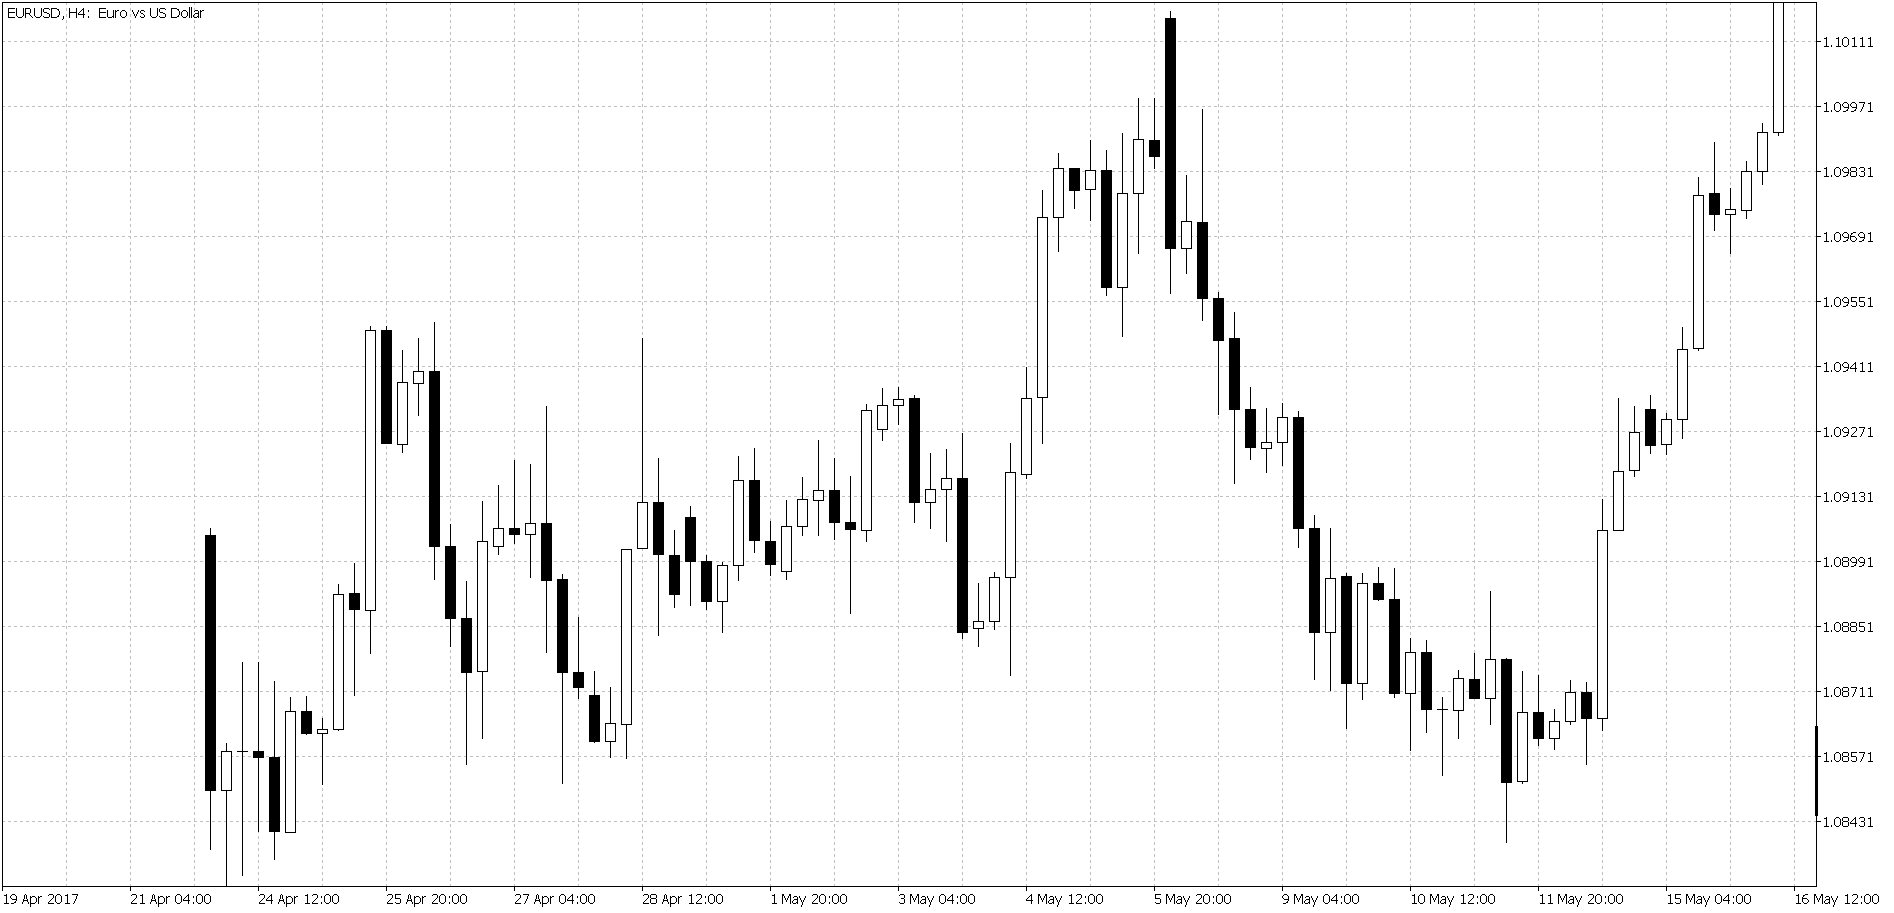bullishEngulfing: (765, 500, 794, 589)
eveningStar: (876, 376, 922, 522)
morningDojiStar: (1418, 626, 1466, 764)
